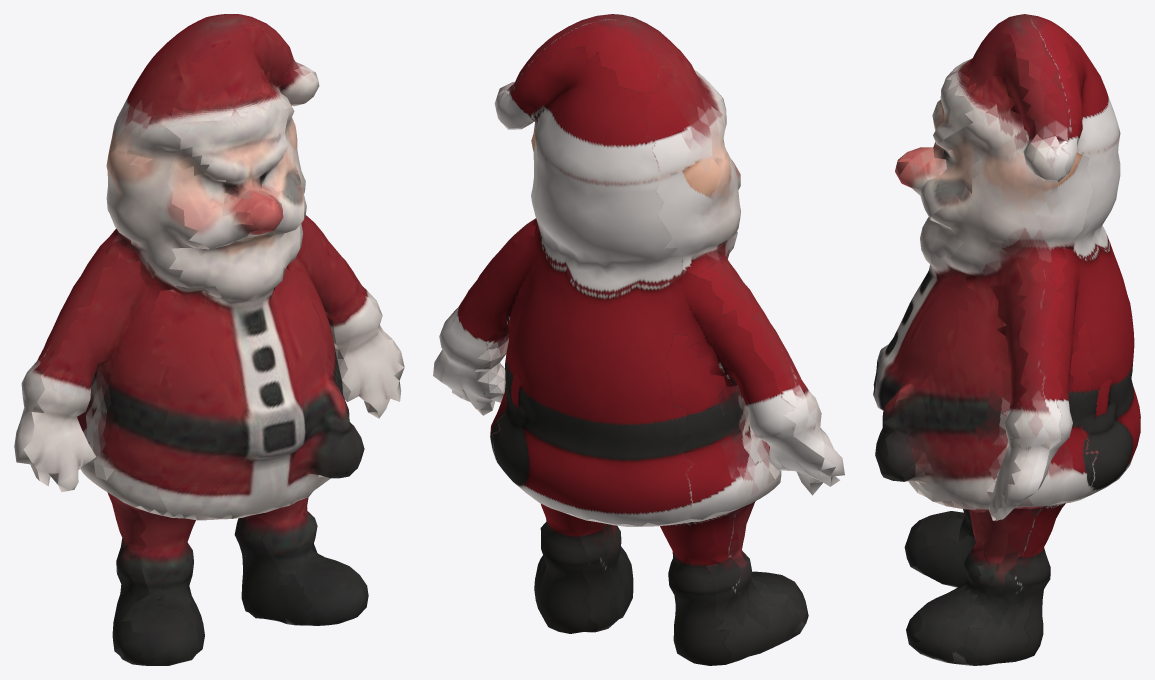
File: host-mrclaus-toon.glb
3 renders of one model, left to right at view 1: azimuth 30°, elevation 25°; view 2: azimuth 150°, elevation 25°; view 3: azimuth 270°, elevation 25°, orthographic. The views are drawn at different scales.
Visible parts, largest first — view 1: world; view 2: world; view 3: world.
Part boxes in pixels (x1,y1,x2,y2): world: (14, 14, 404, 665); world: (433, 14, 844, 665); world: (873, 14, 1140, 665).
Bounding box in the file's own units: 0.6456 × 0.9491 × 0.3788.
Materials: 1 (1 with a texture image).
